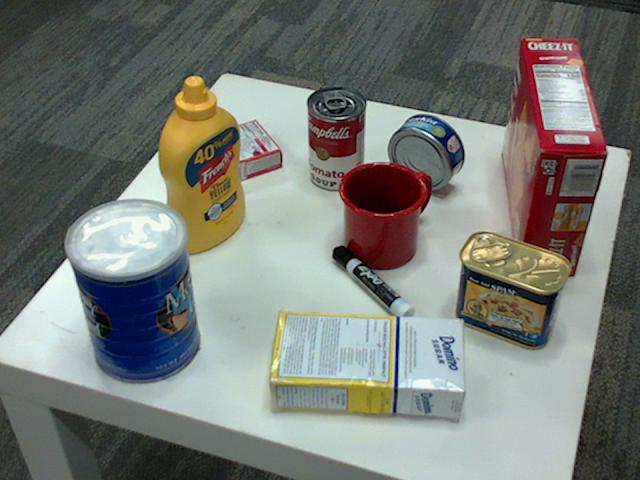cracker_box: (501, 36, 607, 274)
gelatin_box: (191, 116, 283, 185)
large_marker: (332, 247, 414, 327)
master_chef_can: (62, 199, 198, 385)
mug: (335, 159, 427, 267)
mustard_bottle: (156, 76, 245, 253)
potted_meat_can: (453, 230, 570, 348)
sugar_box: (262, 308, 462, 417)
tomato_soup_can: (306, 87, 365, 191)
tuna_fish_can: (386, 113, 463, 190)
